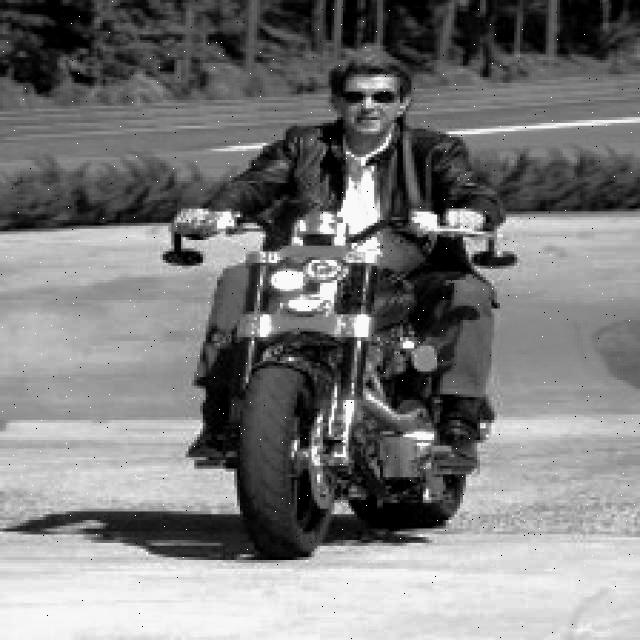Bike: (179, 198, 477, 554)
